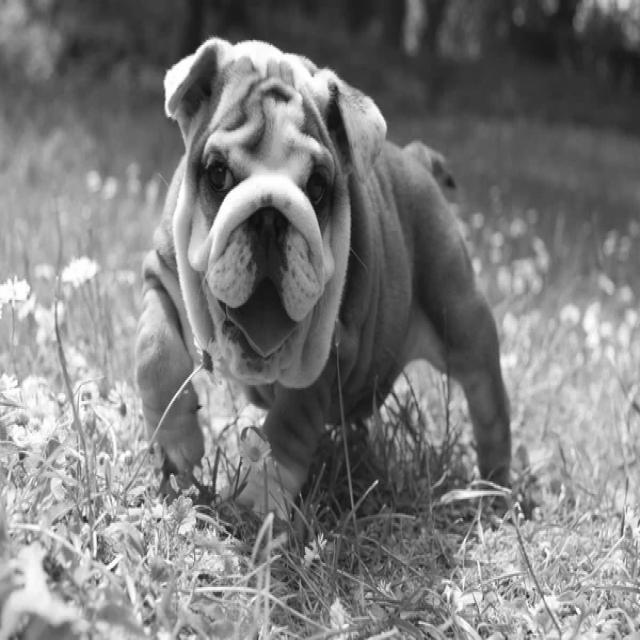Animal: (135, 38, 510, 516)
